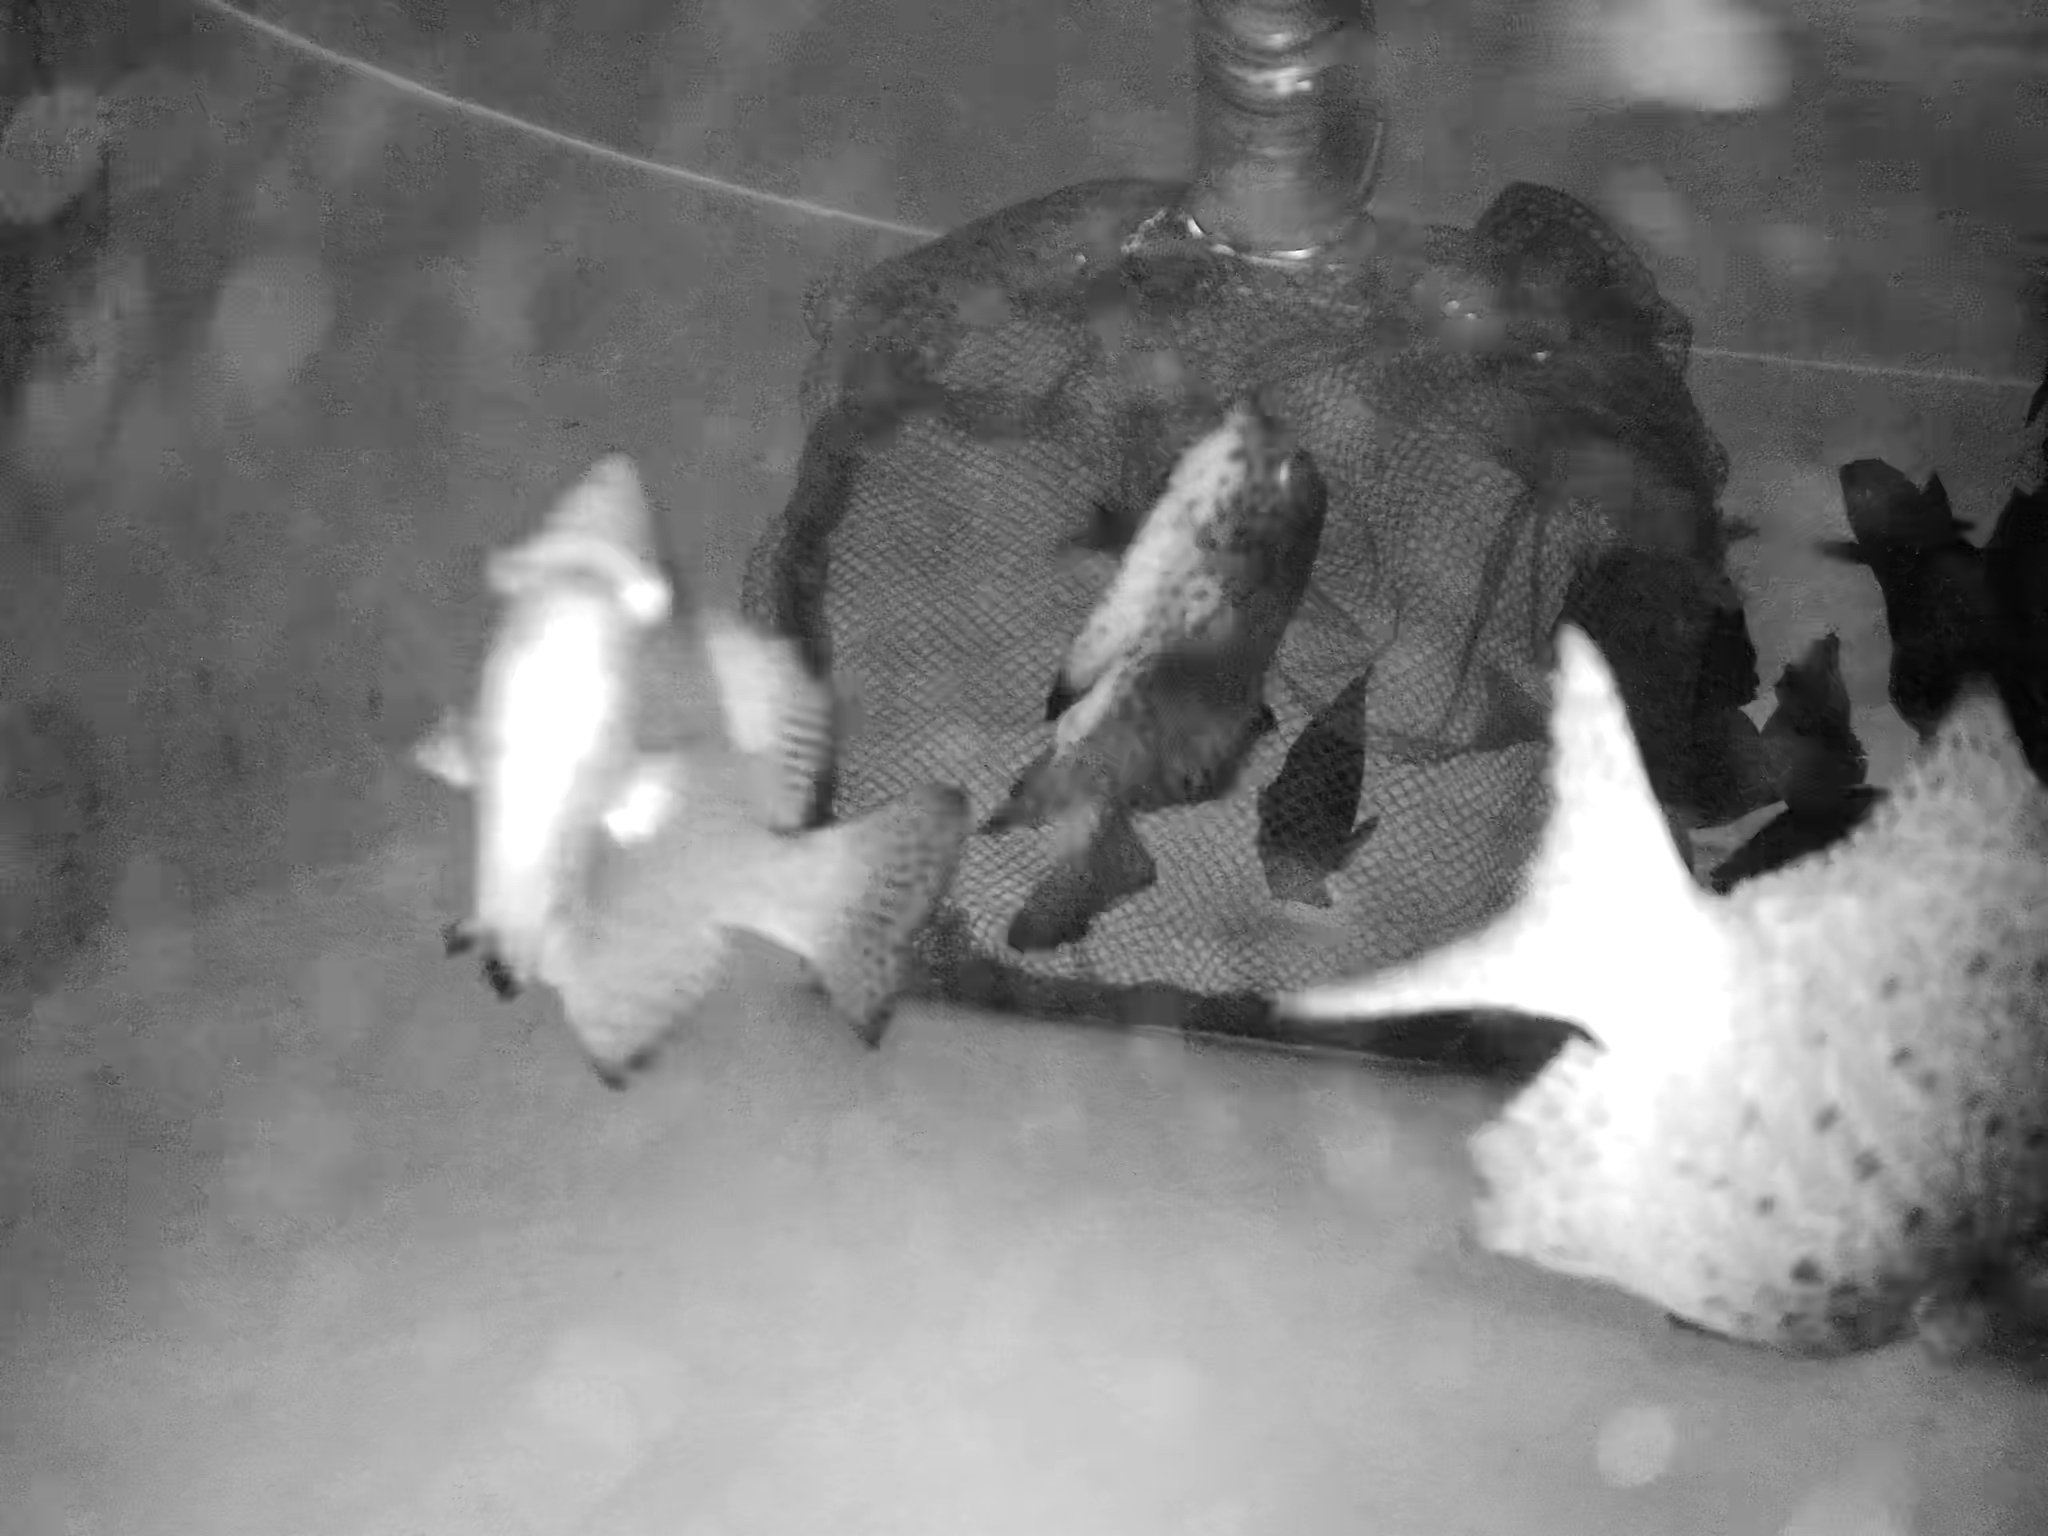fish: (1327, 553, 2048, 1536), (498, 602, 959, 1029), (995, 374, 1277, 931), (440, 450, 626, 904), (1848, 449, 2048, 737), (1713, 678, 1904, 952), (1258, 621, 1377, 954)
